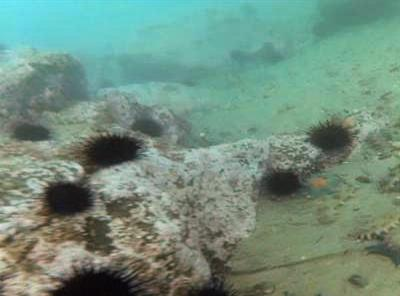urchin: (50, 260, 145, 296), (45, 177, 96, 215), (306, 120, 355, 150), (262, 166, 305, 199), (10, 120, 51, 143), (129, 115, 164, 138)
